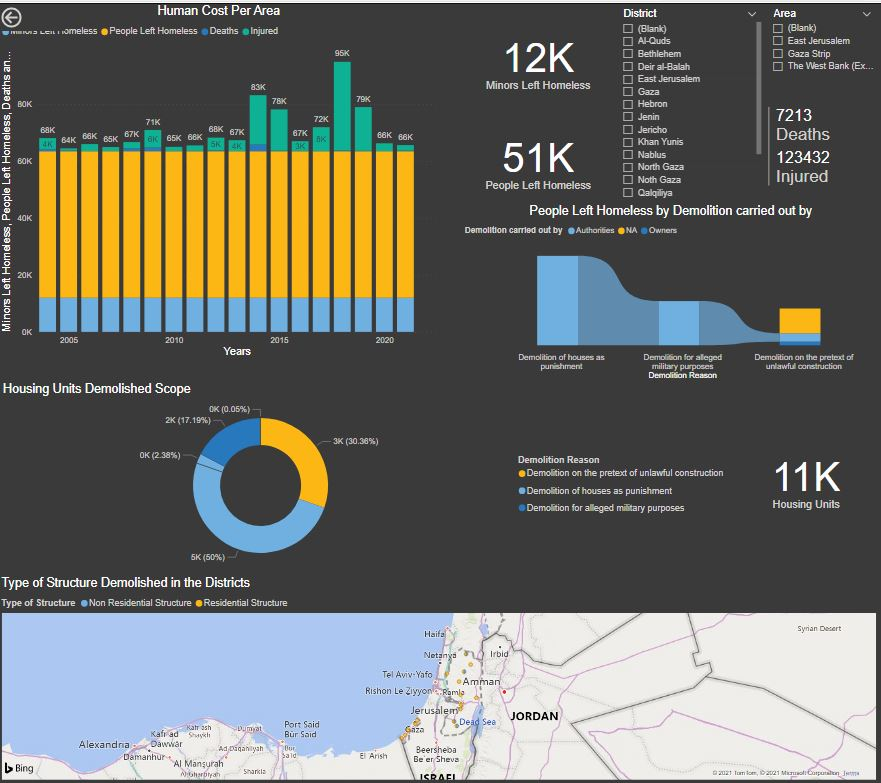

This screenshot's page, from the dashboard's own definition file:
{"tool":"powerbi","page":{"name":"Palestine House Demolished","canvas":[1308,1154],"ordinal":0},"visuals":[{"type":"columnChart","title":"Human Cost Per Area","fields":{"Category":["Sheet1.Years","House Demolitions in Palestine.Year"],"Y":["Sum(House Demolitions in Palestine.Minors Left Homeless)","Sum(House Demolitions in Palestine.People Left Homeless)","Sum(Sheet1.Deaths)","Sum(Sheet1.Injured)"]},"box":[0,0,654.5,529],"z":0},{"type":"card","fields":{"Values":["Sum(House Demolitions in Palestine.Minors Left Homeless)"]},"box":[687.3,0,226.7,166.8],"z":1000},{"type":"actionButton","box":[0,0,100,40],"z":2000},{"type":"ribbonChart","title":"People Left Homeless by Demolition carried out by","fields":{"Category":["House Demolitions in Palestine.Demolition Reason"],"Y":["Sum(House Demolitions in Palestine.People Left Homeless)"],"Series":["House Demolitions in Palestine.Demolition carried out by"]},"box":[687.3,295.6,620.2,266.6],"z":3000},{"type":"card","fields":{"Values":["Sum(House Demolitions in Palestine.People Left Homeless)"]},"box":[687.3,166.8,226.7,128.8],"z":4000},{"type":"multiRowCard","fields":{"Values":["Sum(Sheet1.Deaths)","Sum(Sheet1.Injured)"]},"box":[1136.8,147.6,169.8,147.6],"z":5000},{"type":"slicer","fields":{"Values":["House Demolitions in Palestine.Area"]},"box":[1137,0,170.5,148.7],"z":6000},{"type":"donutChart","title":"Housing Units Demolished Scope","fields":{"Category":["House Demolitions in Palestine.Demolition Reason"],"Y":["Sum(House Demolitions in Palestine.Housing Units)"],"Series":["House Demolitions in Palestine.Demolish Scope"]},"box":[2.5,561,1087.6,285.4],"z":7000},{"type":"slicer","fields":{"Values":["House Demolitions in Palestine.District"]},"box":[913.7,0,222.8,295.4],"z":8000},{"type":"map","title":"Type of Structure Demolished in the Districts","fields":{"Y":["Sheet1 (2).LATITUDE"],"X":["Sheet1 (2).LONGITUDE"],"Series":["House Demolitions in Palestine.Type of Structure"]},"box":[0,846.1,1306.7,307.9],"z":9000},{"type":"card","fields":{"Values":["Sum(House Demolitions in Palestine.Housing Units)"]},"box":[1090,563.5,216.5,283],"z":10000}]}

Visuals, with their boxes in screenshot pixels (x1, y1, x2, y2), scaled from the page's 1308x1154 canvas onto the 881x783 screenshot:
"Human Cost Per Area" columnChart: <bbox>0, 0, 441, 359</bbox>
card - Sum(House Demolitions in Palestine.Minors Left Homeless): <bbox>463, 0, 616, 113</bbox>
actionButton: <bbox>0, 0, 67, 27</bbox>
"People Left Homeless by Demolition carried out by" ribbonChart: <bbox>463, 201, 880, 381</bbox>
card - Sum(House Demolitions in Palestine.People Left Homeless): <bbox>463, 113, 616, 201</bbox>
multiRowCard - Sum(Sheet1.Deaths) x Sum(Sheet1.Injured): <bbox>766, 100, 880, 200</bbox>
slicer - House Demolitions in Palestine.Area: <bbox>766, 0, 880, 101</bbox>
"Housing Units Demolished Scope" donutChart: <bbox>2, 381, 734, 574</bbox>
slicer - House Demolitions in Palestine.District: <bbox>615, 0, 765, 200</bbox>
"Type of Structure Demolished in the Districts" map: <bbox>0, 574, 880, 782</bbox>
card - Sum(House Demolitions in Palestine.Housing Units): <bbox>734, 382, 880, 574</bbox>
